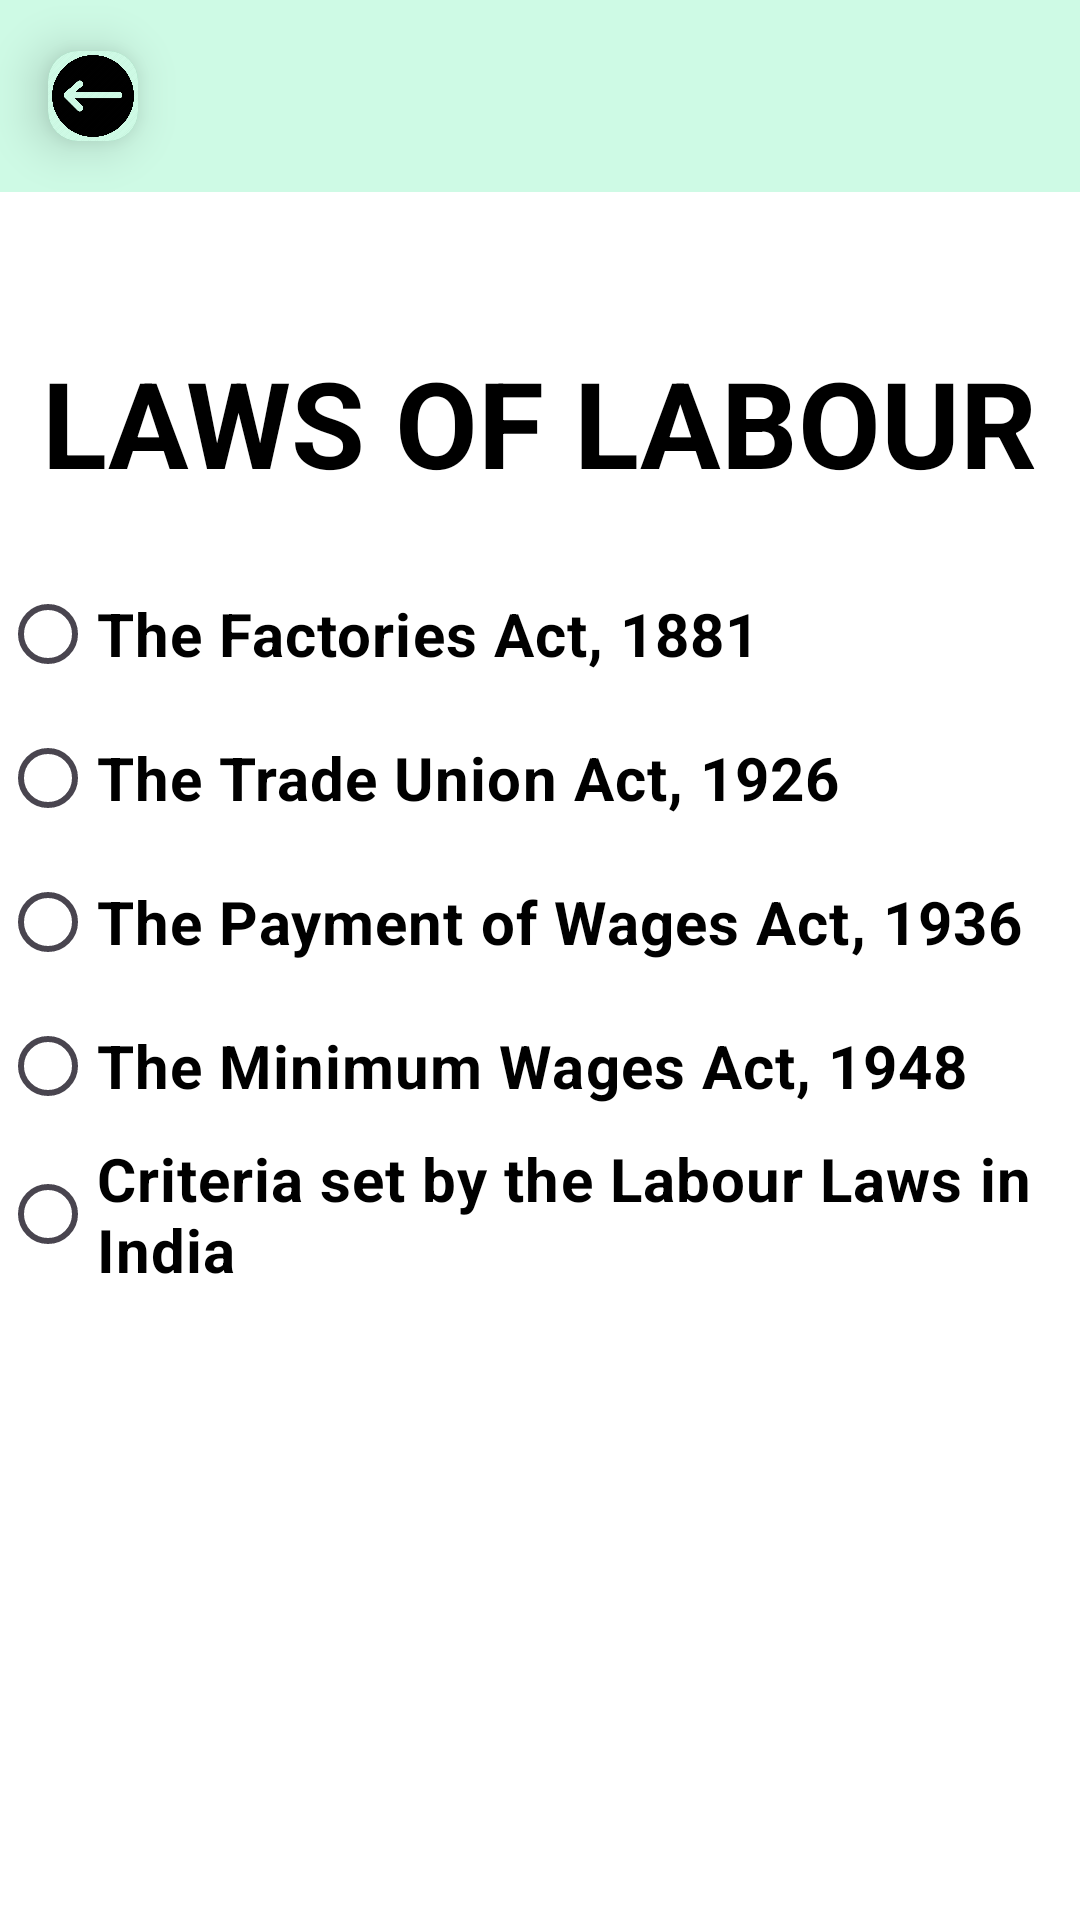

Where to tap for icons on this 1080px x 1920px app screen, as (x,y):
back: (93,96)
